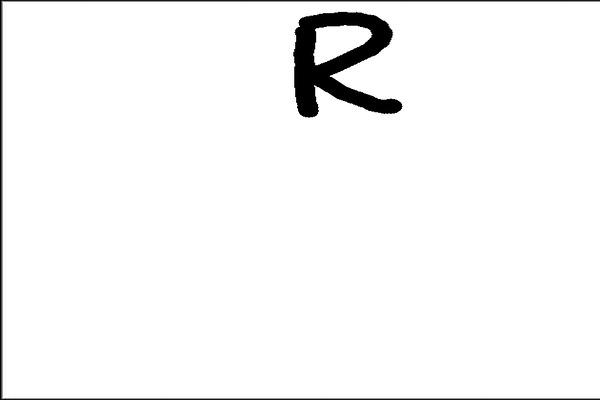R: (288, 3, 409, 121)
